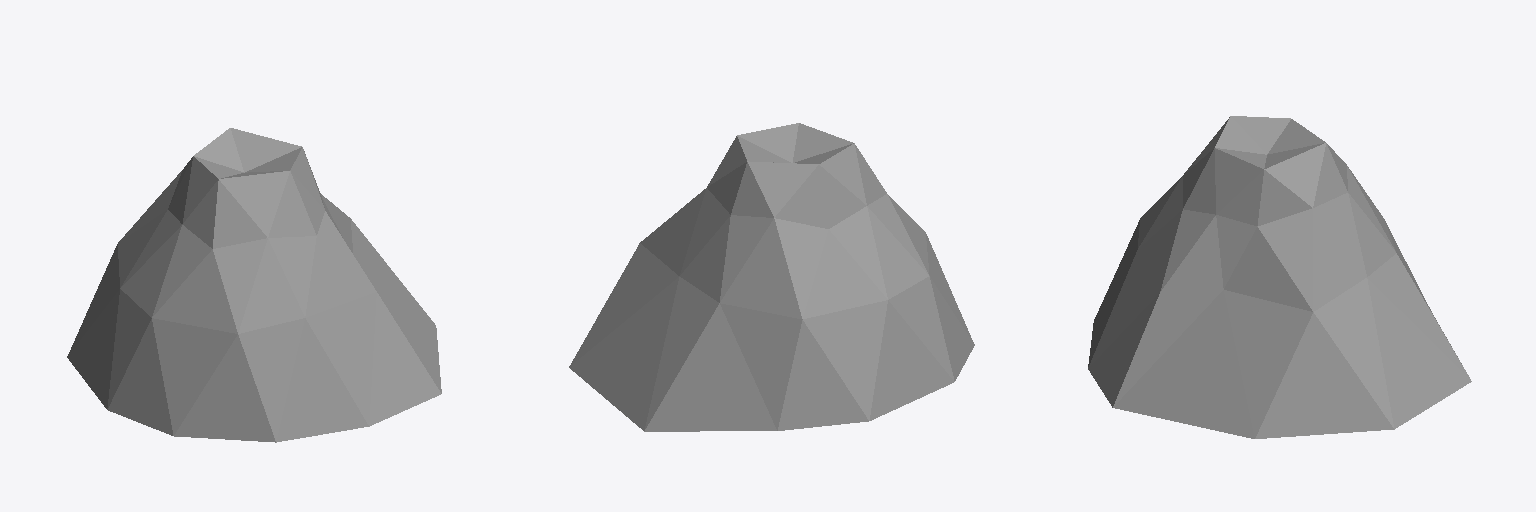
File: antnest.obj
3 views of the same model, side by side, from view 1: azimuth 30°, elevation 25°; view 2: azimuth 150°, elevation 25°; view 3: azimuth 270°, elevation 25° (orthographic).
Visible parts, largest first — view 1: Icosphere; view 2: Icosphere; view 3: Icosphere.
Boxes of the visible parts, x1=… form: Icosphere: x1=67, y1=128, x2=441, y2=442; Icosphere: x1=569, y1=123, x2=974, y2=431; Icosphere: x1=1088, y1=116, x2=1471, y2=438.
Size of the model in its own units: 5.86 by 3.74 by 5.81.